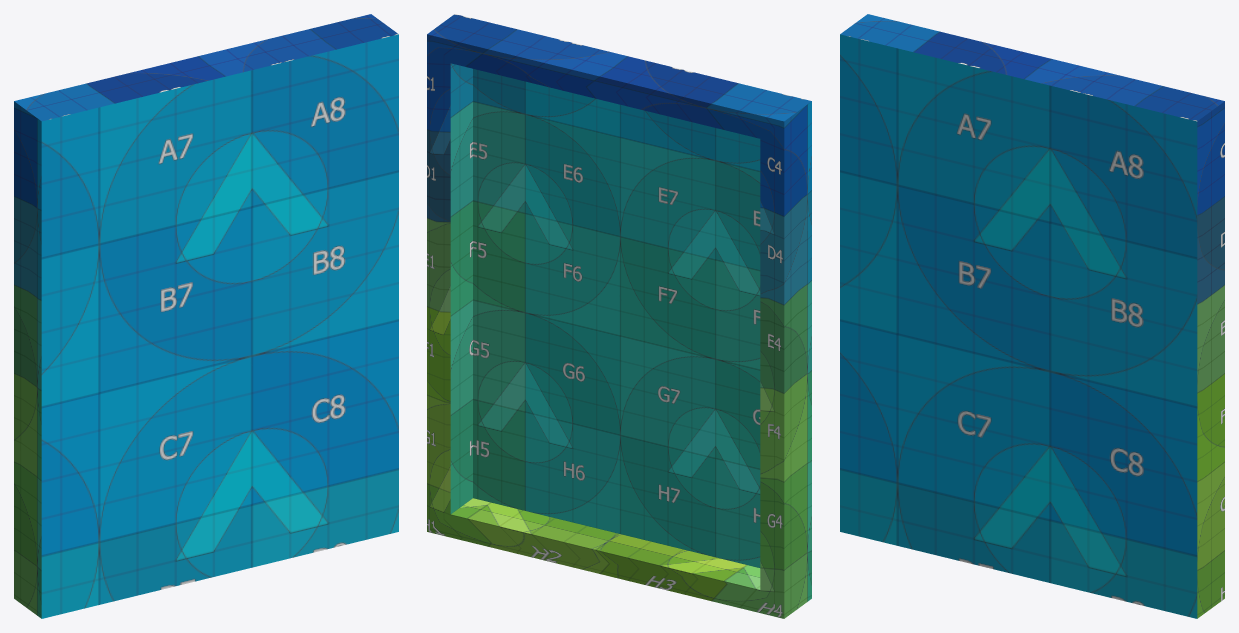
File: frame_01.fbx
3 renders of one model, left to right at view 1: azimuth 30°, elevation 25°; view 2: azimuth 150°, elevation 25°; view 3: azimuth 330°, elevation 25°, orthographic.
Visible parts, largest first — view 1: 액자; view 2: 액자; view 3: 액자.
Boxes of the visible parts, box(x1,y1,x2,y2) form: 액자: box(14, 14, 398, 618); 액자: box(427, 14, 811, 618); 액자: box(840, 14, 1224, 618).
Bounding box in the file's own units: 62.59 × 83.3 × 8.44.
Materials: 1 (1 with a texture image).
